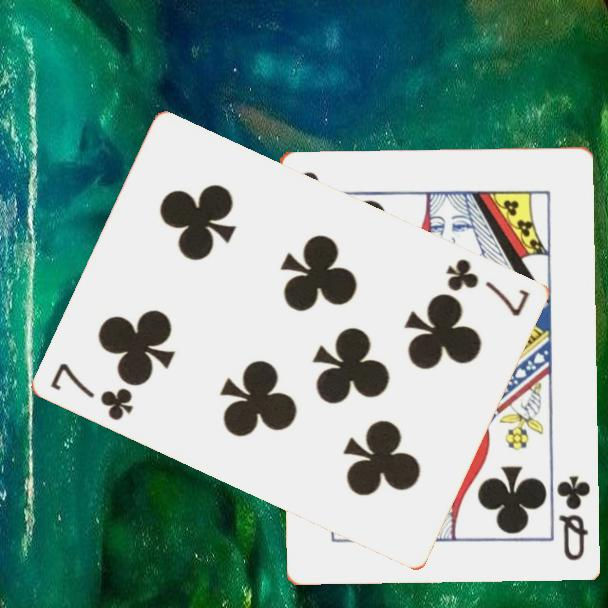c07: (47, 359, 137, 424), (442, 255, 533, 319)
c12: (552, 472, 593, 563)
